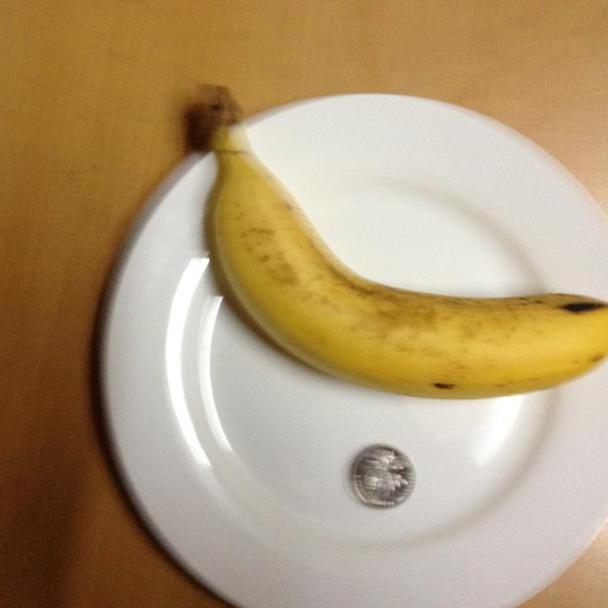banana: (175, 81, 604, 407)
